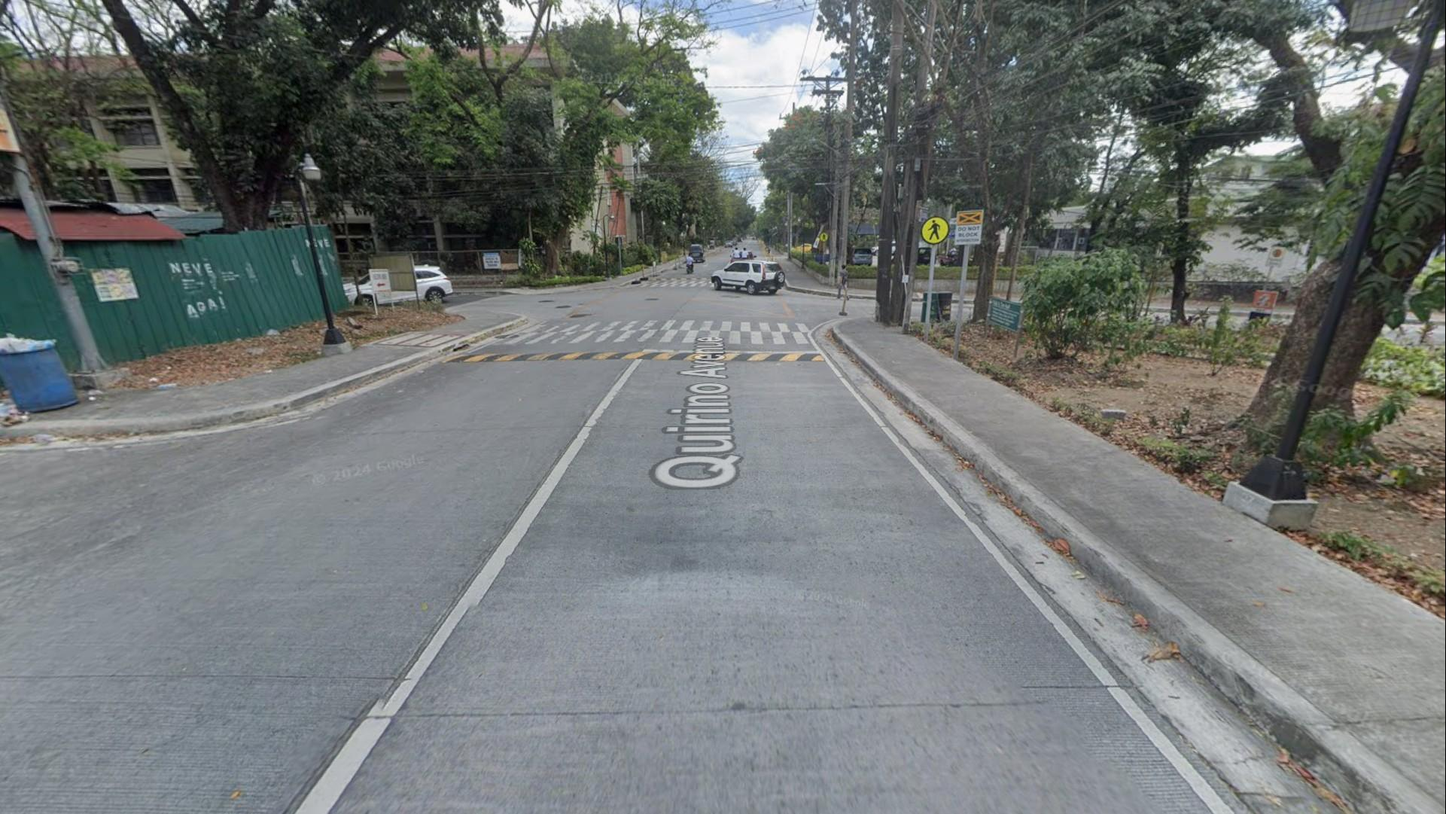pedestrian: (837, 263, 850, 301)
